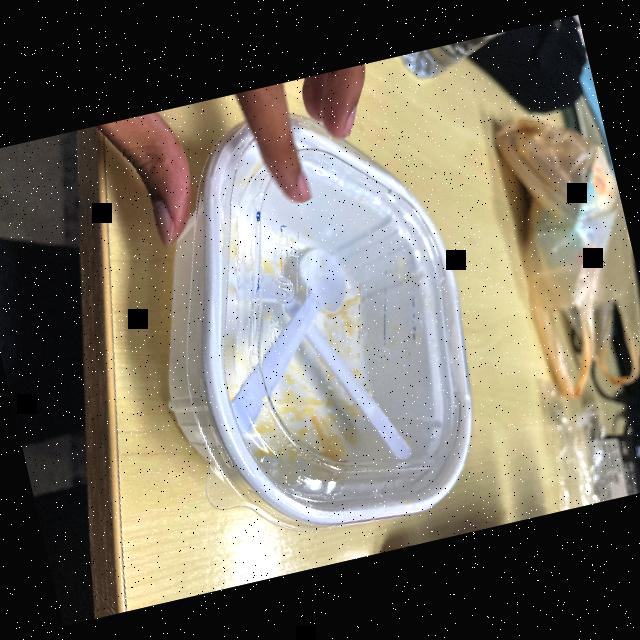plastic_box: (102, 86, 510, 578)
